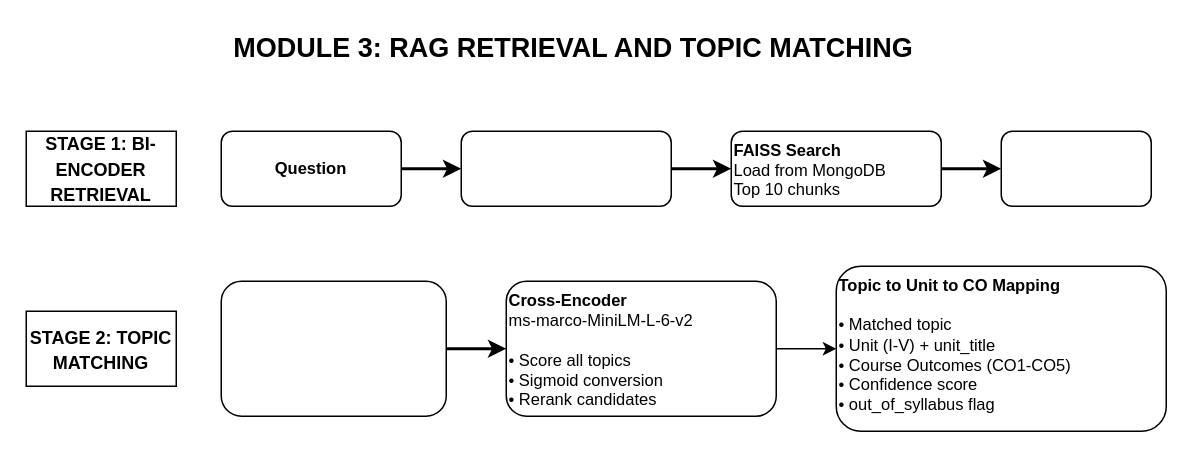
The diagram is 1193 pixels wide and 458 high, and some of its shapes have lost their labels. Here are the shapes that lost their labels. From the top down, the centre of each, then its label:
At pixel 565 168: "Bi-Encoder e5-small-v2 384-dim embedding".
At pixel 1075 168: "Top 10 Chunks Relevant context".
At pixel 333 348: "Enriched Topics topic_text = topic_name + enriched_subtopics".
